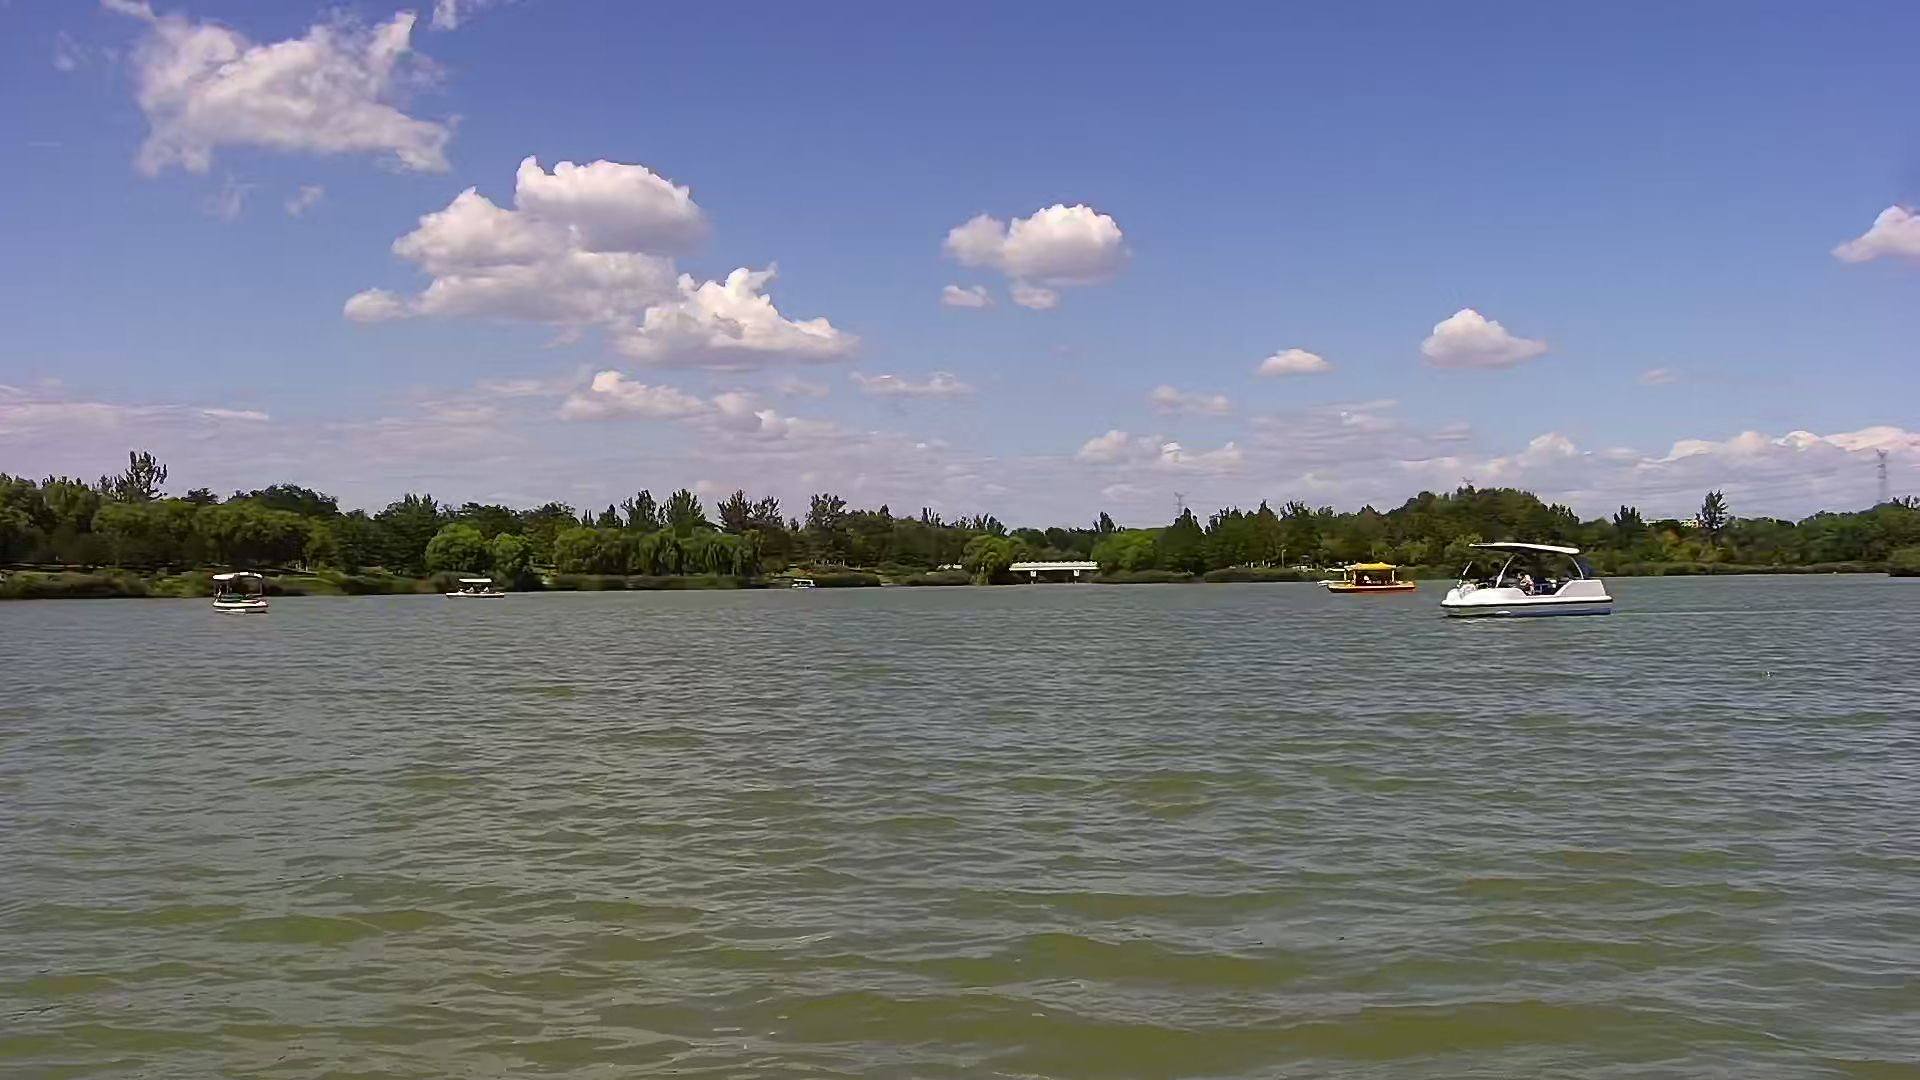boat: (1441, 538, 1618, 622), (1341, 560, 1414, 597), (214, 568, 264, 615), (440, 575, 504, 600), (1323, 564, 1352, 585)
bridge: (1015, 556, 1096, 585)
